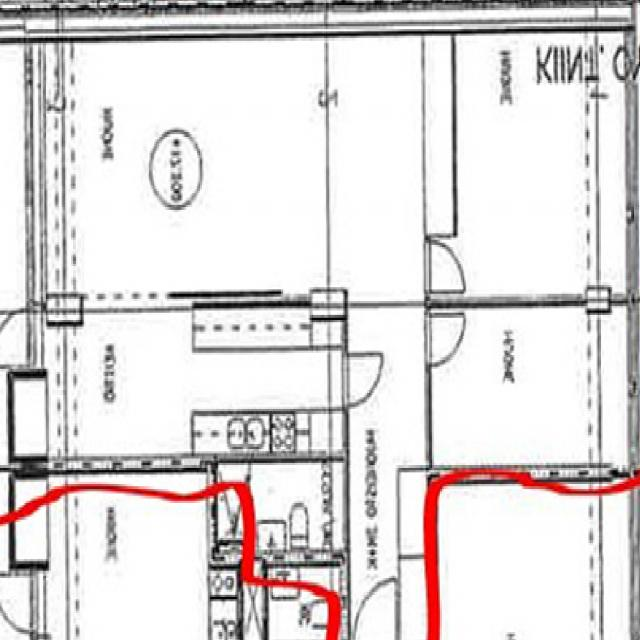door: (0, 309, 46, 364), (354, 584, 396, 640), (342, 352, 386, 405), (342, 493, 386, 546), (428, 240, 468, 290), (428, 316, 468, 365)
